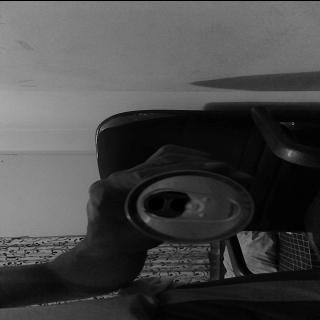alumunium_can: (119, 168, 253, 244)
